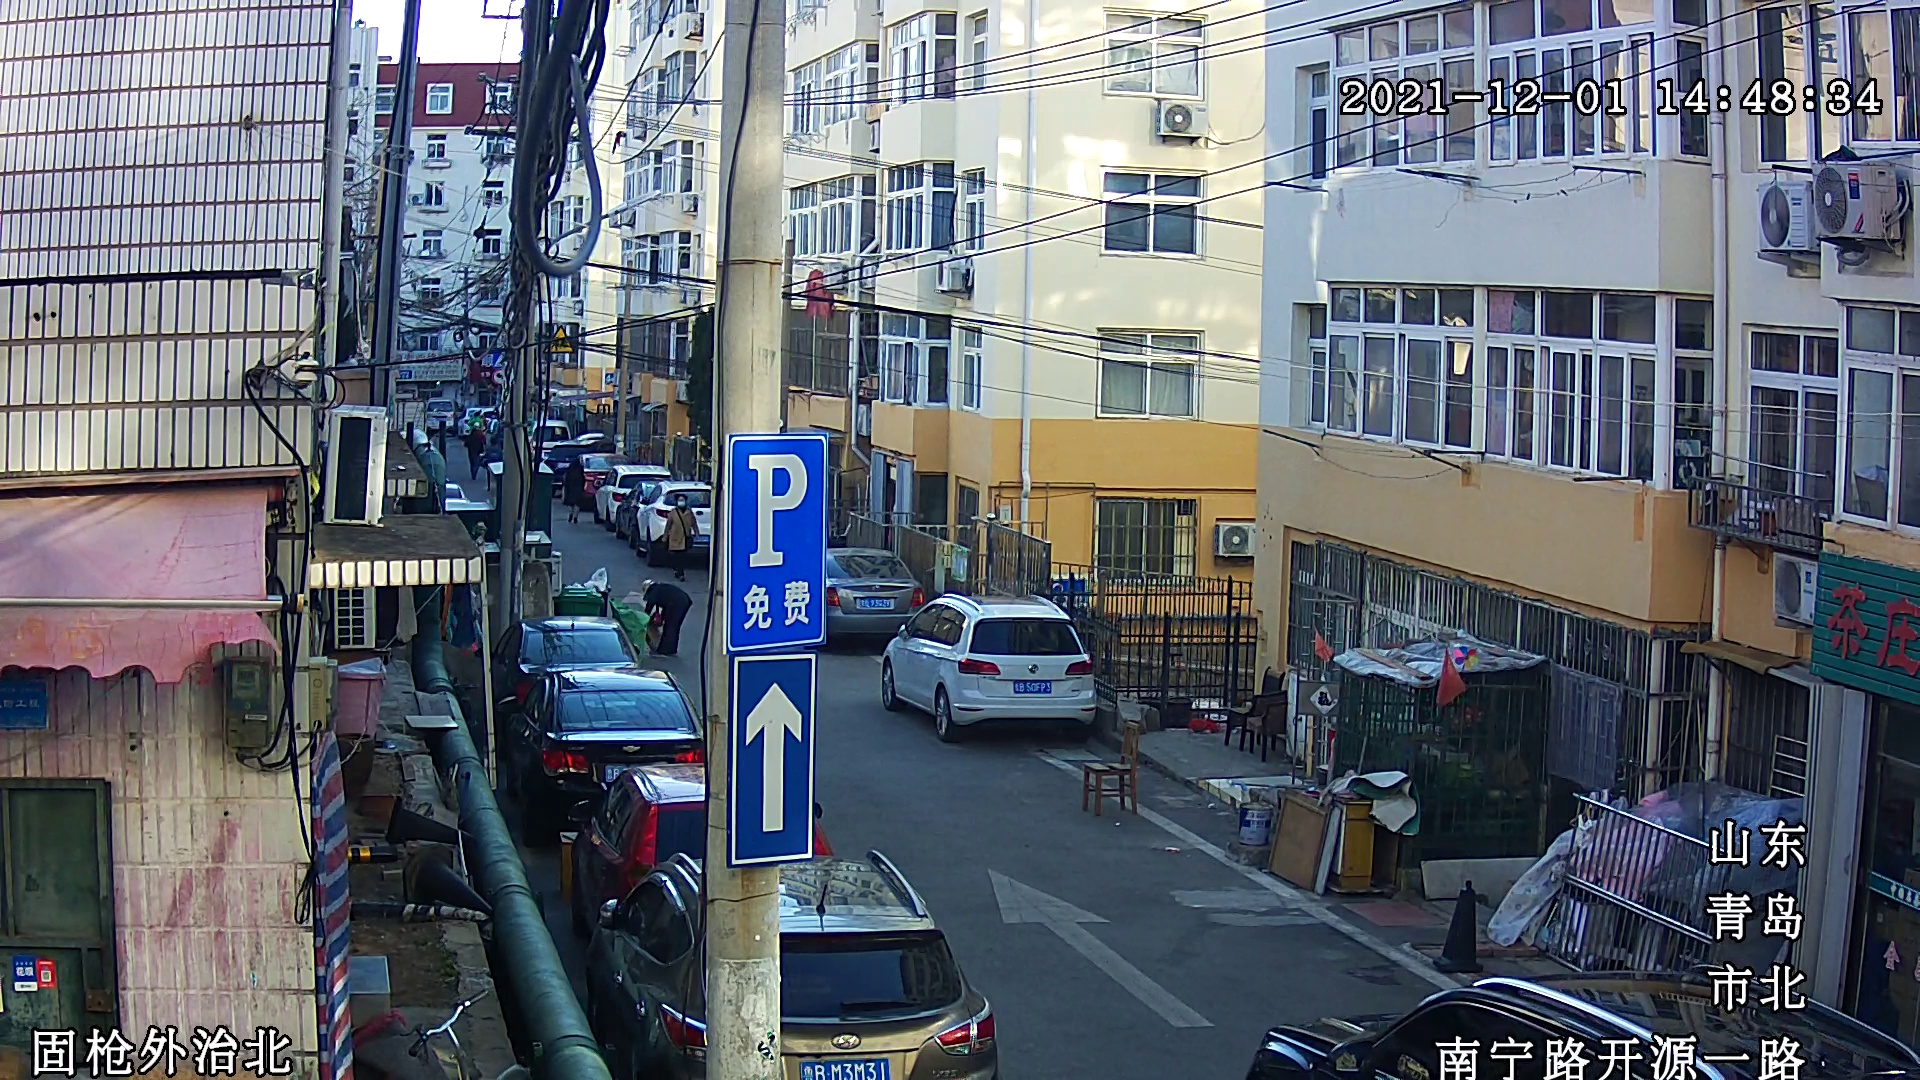chair: (1077, 720, 1139, 816), (1224, 665, 1284, 753), (1241, 688, 1287, 761)
